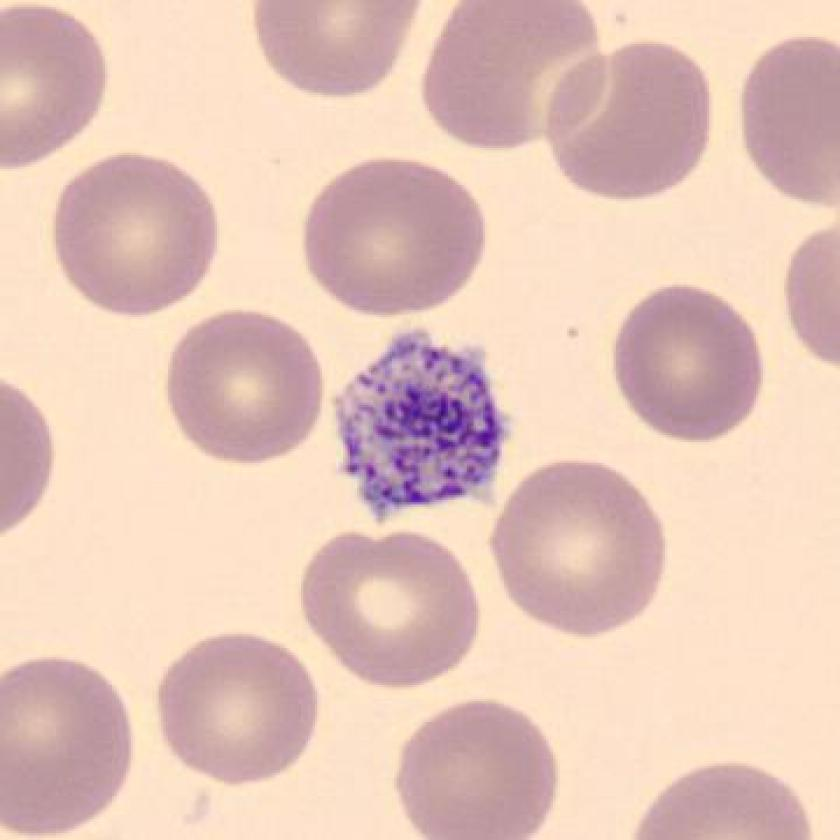platelets: (325, 328, 519, 527)
